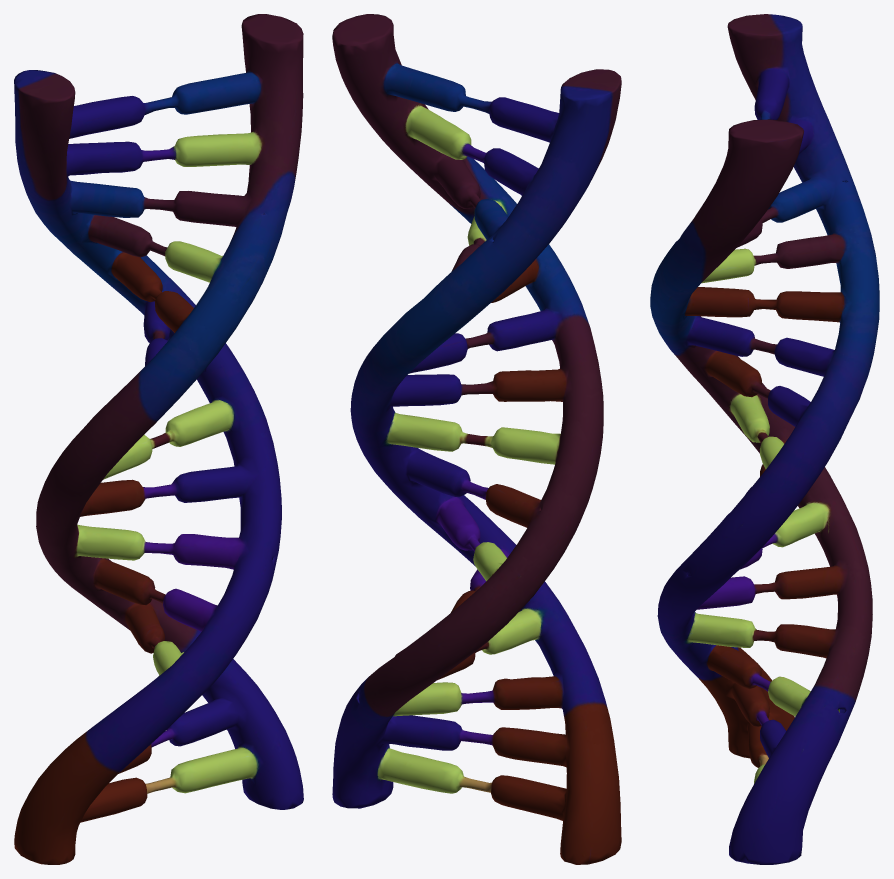
File: dna-strand-nexus.glb
3 renders of one model, left to right at view 1: azimuth 30°, elevation 25°; view 2: azimuth 150°, elevation 25°; view 3: azimuth 270°, elevation 25°, orthographic. The views are drawn at different scales.
Parts seen in each view (by area): view 1: world; view 2: world; view 3: world.
Boxes of the visible parts, x1,y1,x2,y2 form: world: (14, 14, 303, 864); world: (332, 14, 621, 864); world: (650, 14, 879, 864).
Size of the model in its own units: 0.3789 by 1 by 0.2881.
Materials: 1 (1 with a texture image).
